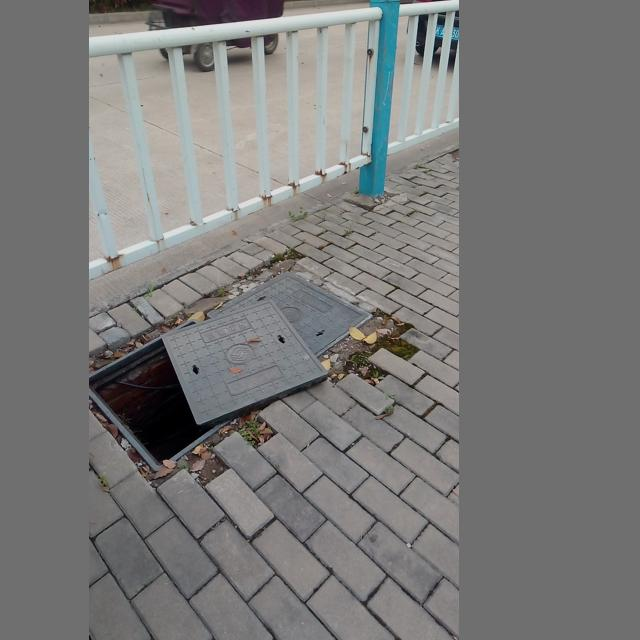uncovered: (90, 271, 371, 469)
